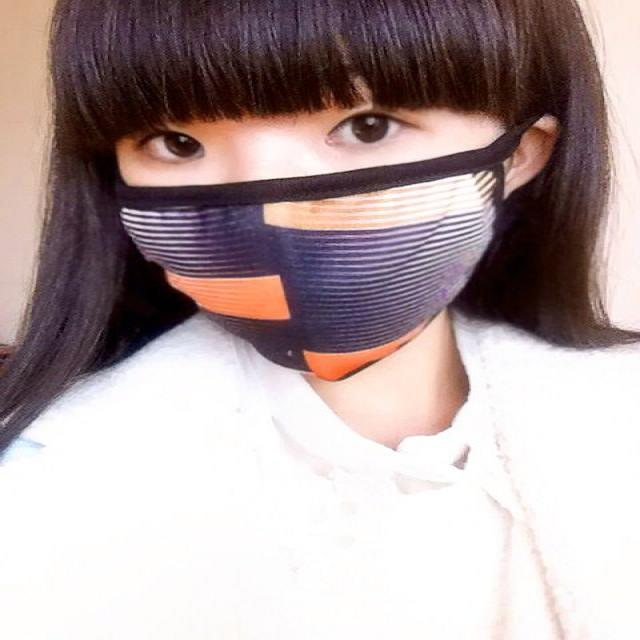mask: (104, 0, 493, 381)
